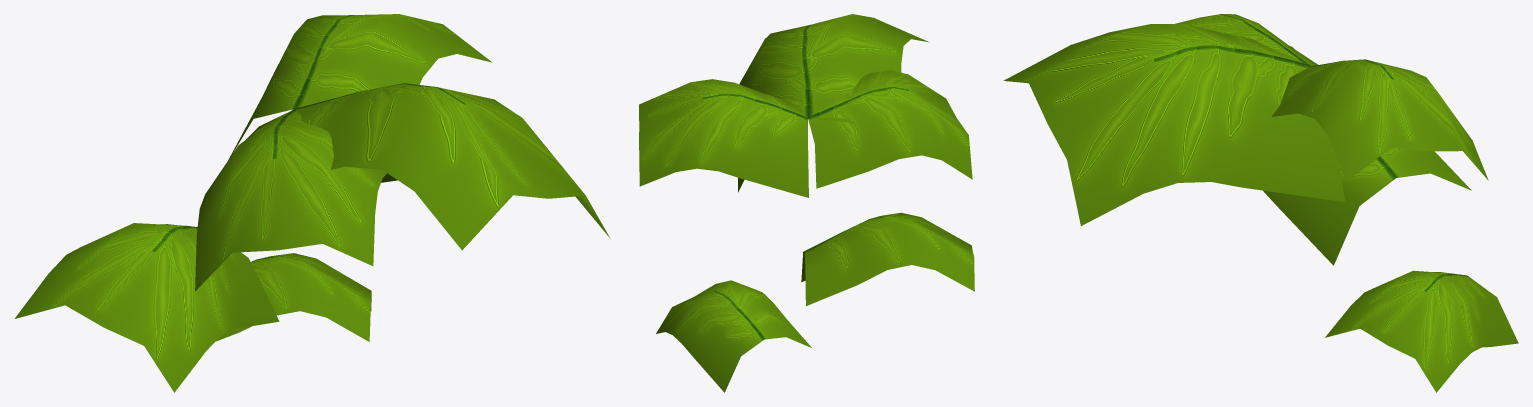
The model's file is BambooSet_part_1.fbx.
3 renders of one model, left to right at view 1: azimuth 30°, elevation 25°; view 2: azimuth 150°, elevation 25°; view 3: azimuth 270°, elevation 25°, orthographic. The views are drawn at different scales.
Visible parts, largest first — view 1: Object_11.001; view 2: Object_11.001; view 3: Object_11.001.
Part boxes in pixels (box(x1,y1,x2,y2)): Object_11.001: box(14, 14, 610, 392); Object_11.001: box(639, 14, 974, 392); Object_11.001: box(1003, 14, 1518, 392).
Bounding box in the file's own units: 441 × 325 × 456.
